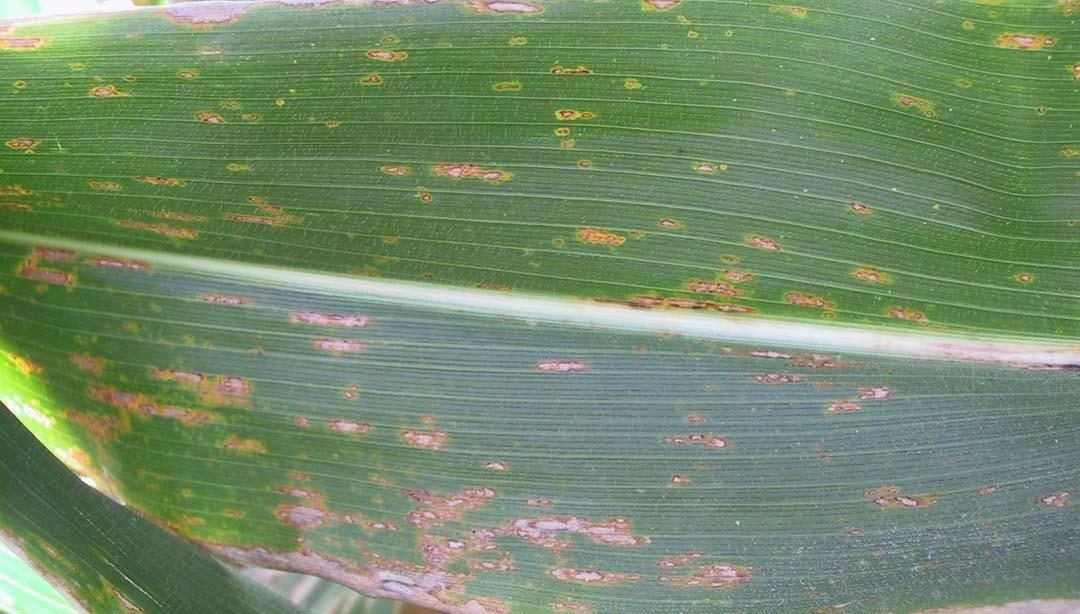Gray_Leaf_Spot: (0, 295, 382, 540), (193, 546, 758, 611), (596, 232, 931, 329), (0, 0, 820, 30), (386, 460, 650, 546), (75, 169, 296, 244), (709, 342, 897, 420), (951, 0, 1080, 95), (0, 240, 164, 291), (865, 483, 1067, 524), (555, 196, 690, 253), (489, 64, 659, 102), (367, 151, 520, 192), (0, 122, 56, 216), (663, 412, 722, 487), (352, 41, 424, 95), (545, 108, 594, 173), (397, 406, 453, 459), (679, 146, 747, 186), (886, 83, 943, 126), (0, 49, 48, 98), (72, 73, 126, 110), (529, 353, 591, 380), (166, 59, 215, 91), (462, 269, 523, 294), (832, 186, 872, 218), (1005, 266, 1042, 299), (187, 108, 233, 130)
